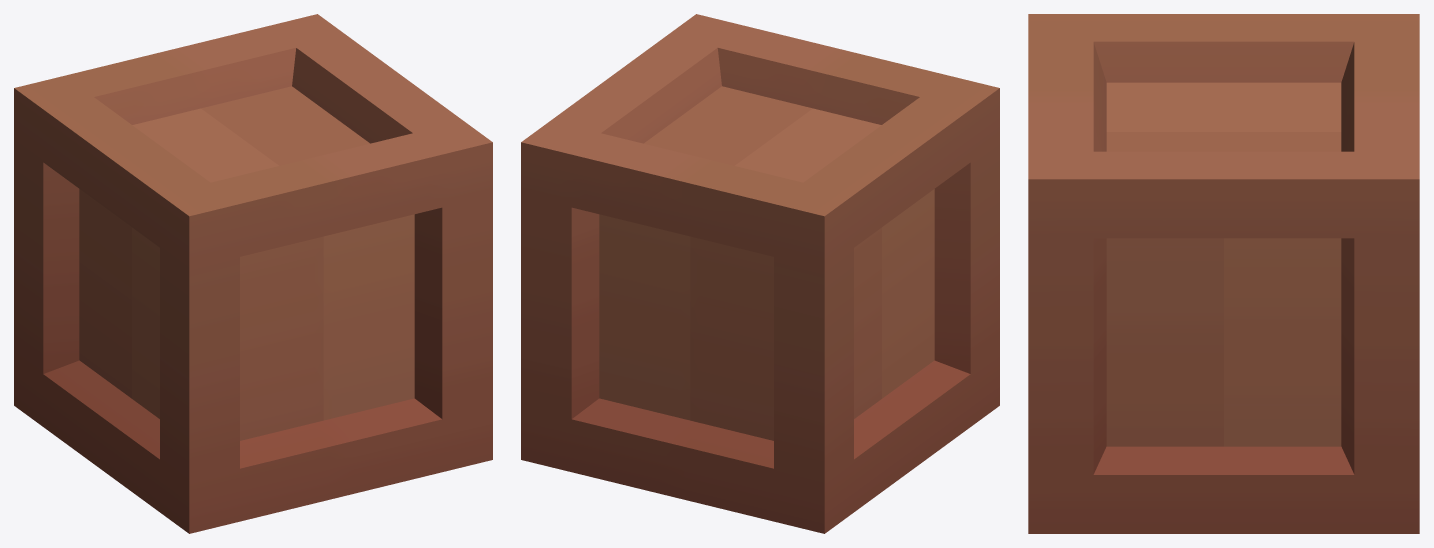
The model's file is kay-caixote-grande.gltf.
The picture shows the model from 3 angles, left to right: view 1: azimuth 30°, elevation 25°; view 2: azimuth 150°, elevation 25°; view 3: azimuth 270°, elevation 25°; orthographic projection. The views are drawn at different scales.
Visible parts, largest first — view 1: crate_A_big; view 2: crate_A_big; view 3: crate_A_big.
Boxes of the visible parts, box(x1,y1,x2,y2) form: crate_A_big: box(14, 14, 492, 533); crate_A_big: box(521, 14, 999, 533); crate_A_big: box(1028, 14, 1419, 533).
Bounding box in the file's own units: 1.05 × 1.05 × 1.05.
Materials: 1 (1 with a texture image).
